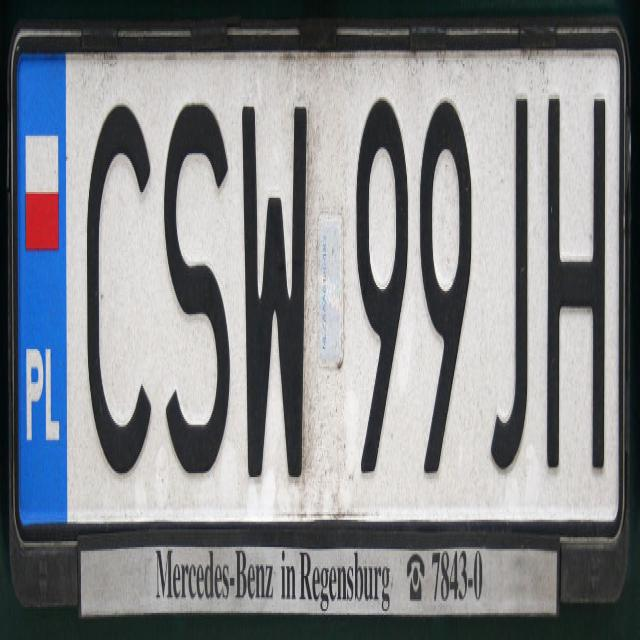pl_license_plate: (13, 39, 624, 537)
